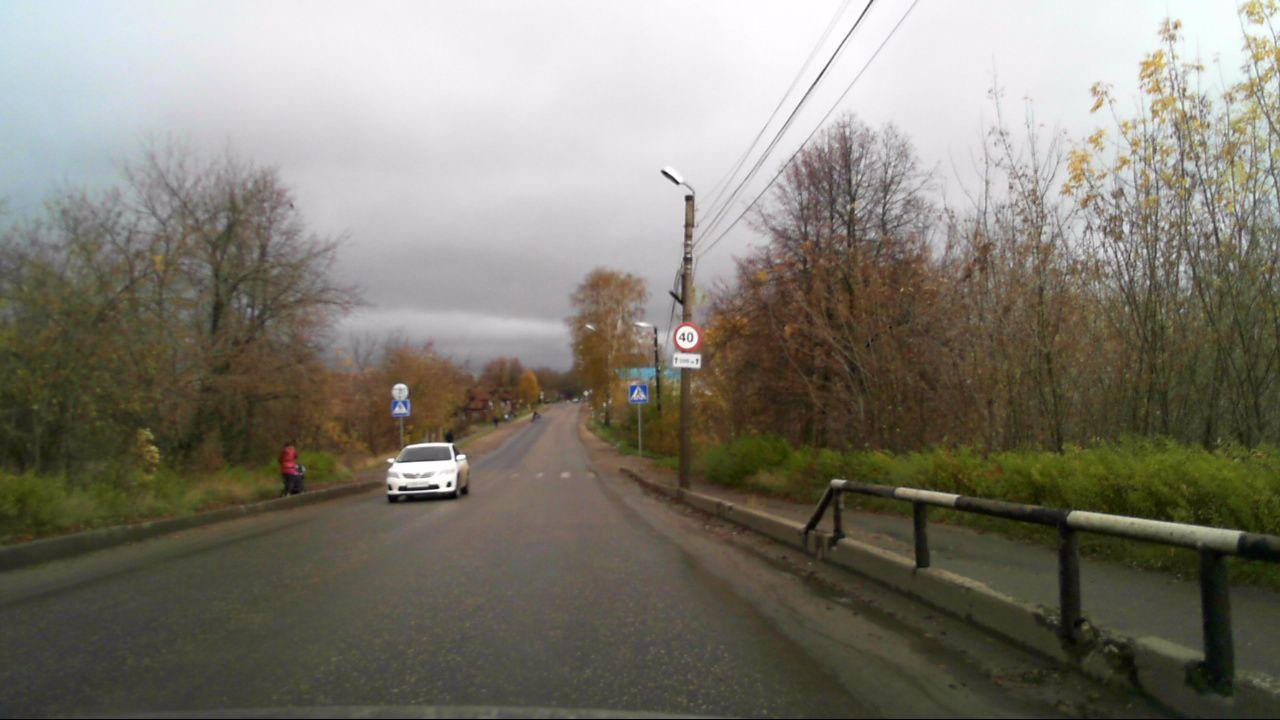3_24: (673, 321, 703, 351)
5_19_1: (628, 384, 649, 404)
5_19_2: (391, 400, 411, 417)
8_2_1: (672, 353, 704, 369)
